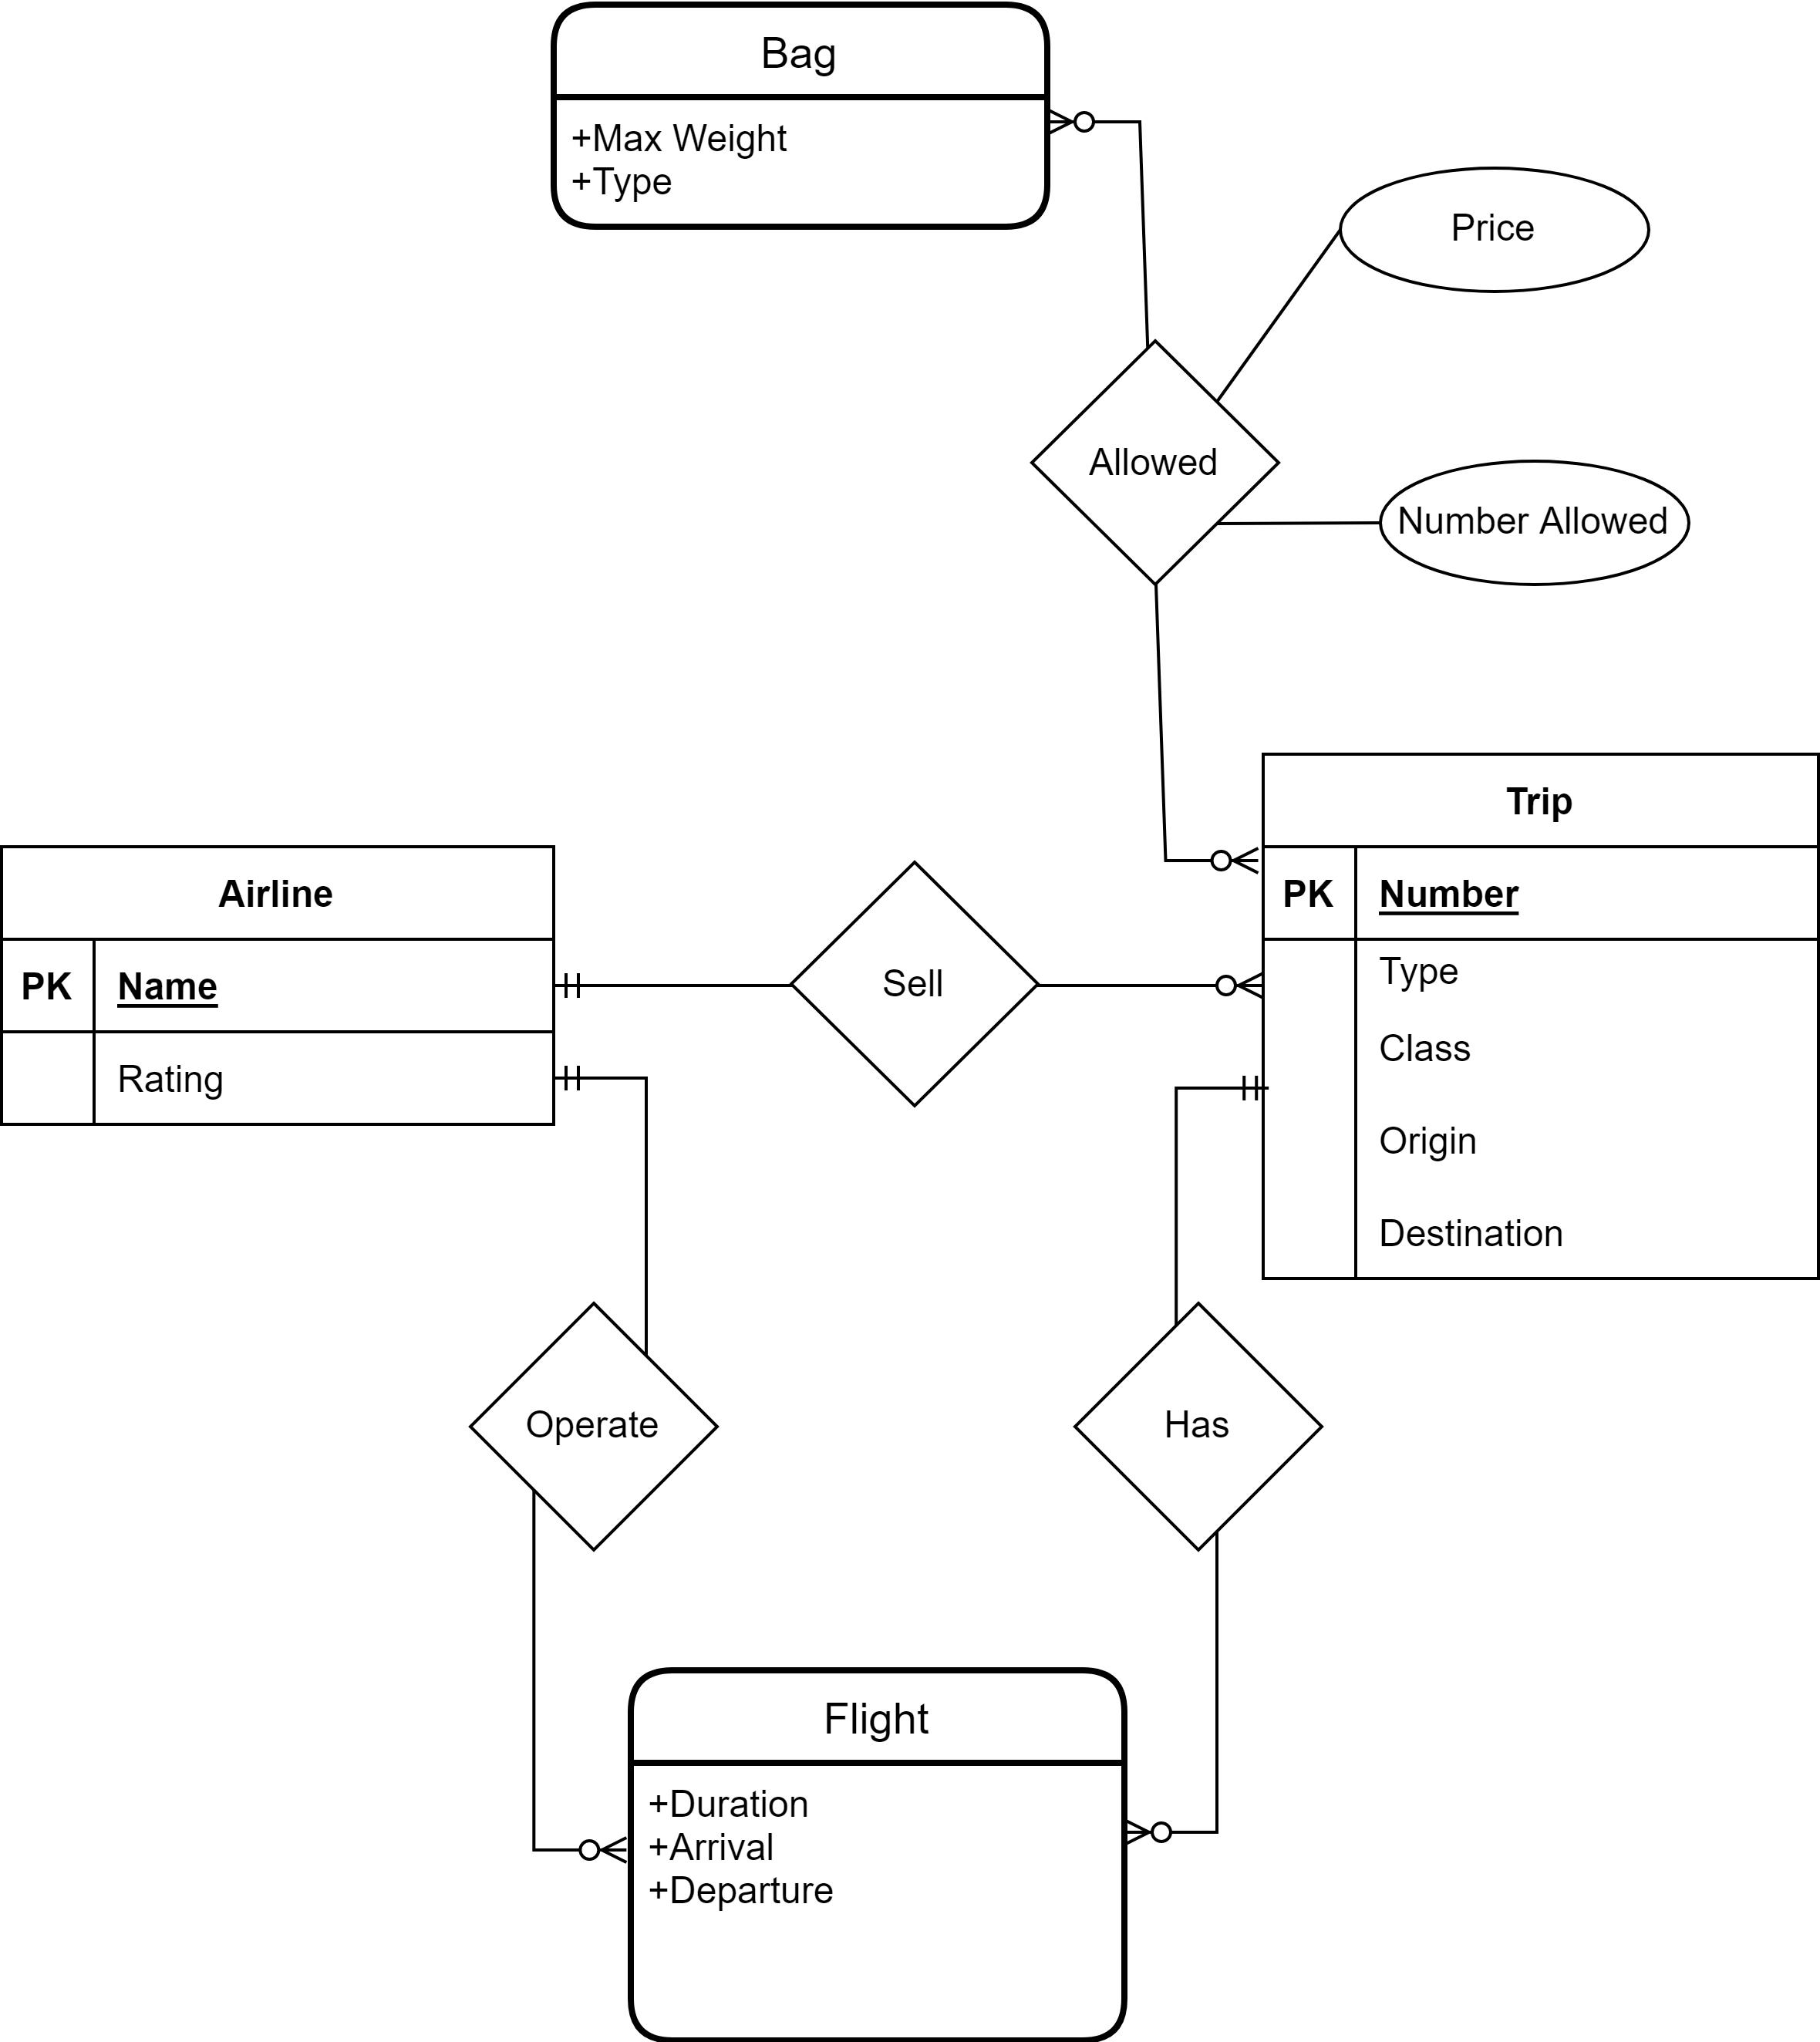attribute: (1377, 459, 1692, 589), (1337, 170, 1655, 292)
entity: (1258, 742, 1820, 1292), (620, 1655, 1126, 2042), (0, 838, 566, 1140), (548, 0, 1056, 239)
relationship: (464, 1299, 720, 1550), (1059, 1309, 1326, 1550), (787, 865, 1042, 1111), (1028, 334, 1275, 580)
